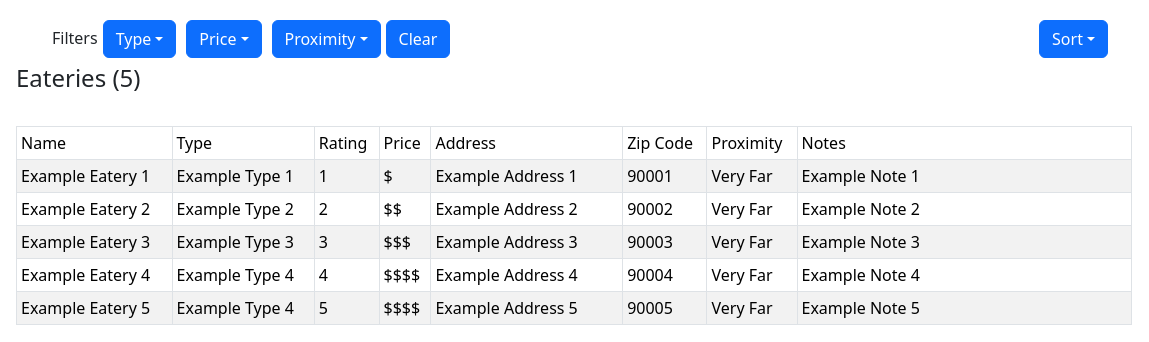
Test: Successfully renders eateries component › Test selecting type and price filter options and clear button
Click the button "Type" at (139, 39), box [103,20,176,58]
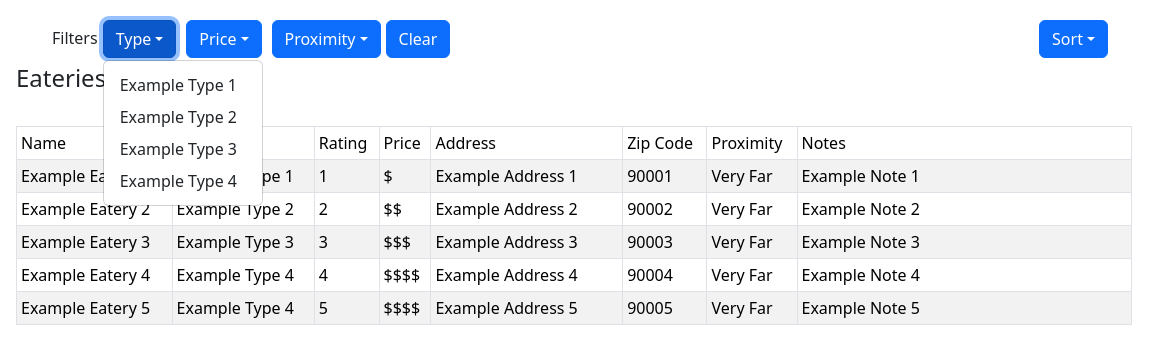
Click the button "example type 1" at (178, 85), box [120,74,237,96]
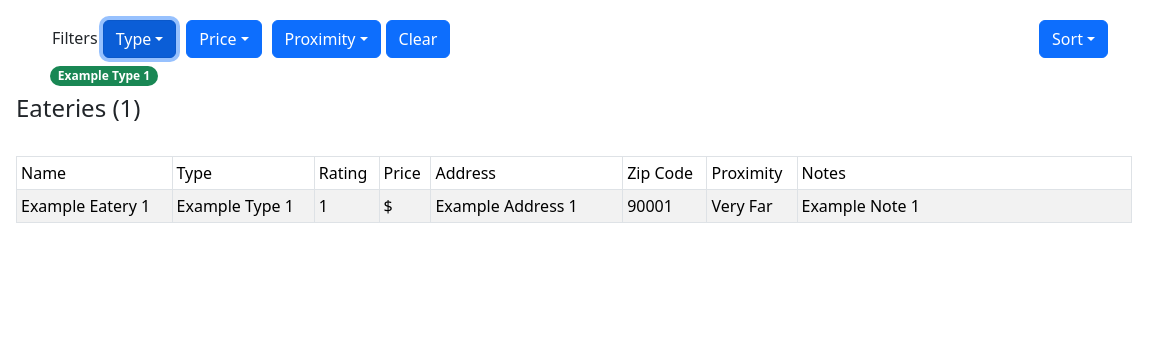
Result: the text "example type 1" is shown 3 times
Result: the button "example type 2" is gone
Click the button "Clear" at (418, 39), box [386,20,450,58]
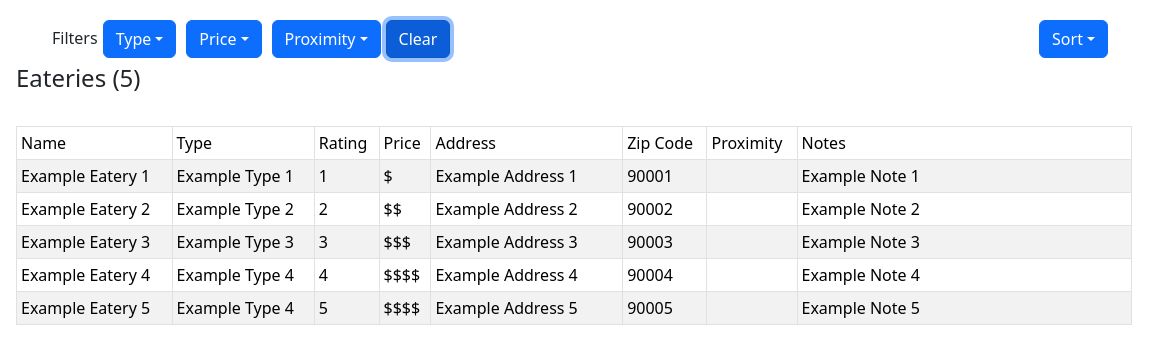
Click the button "Price" at (224, 39), box [186,20,262,58]
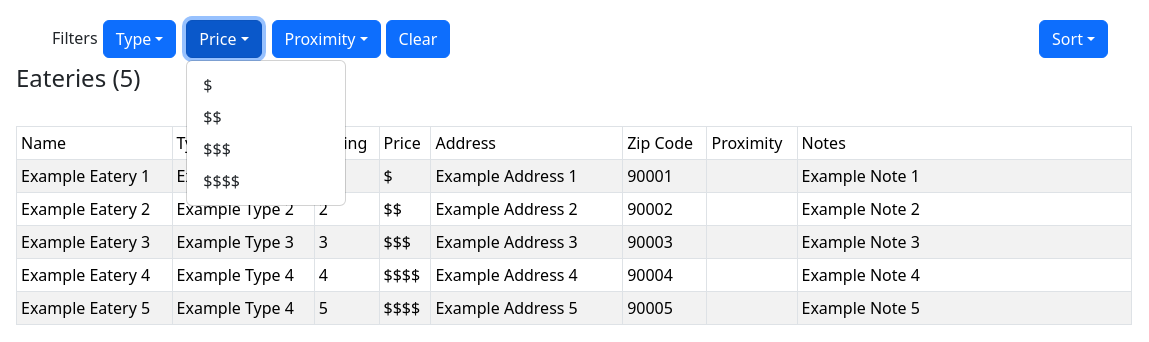
Click the button "$$" at (212, 117), box [203,106,222,128]
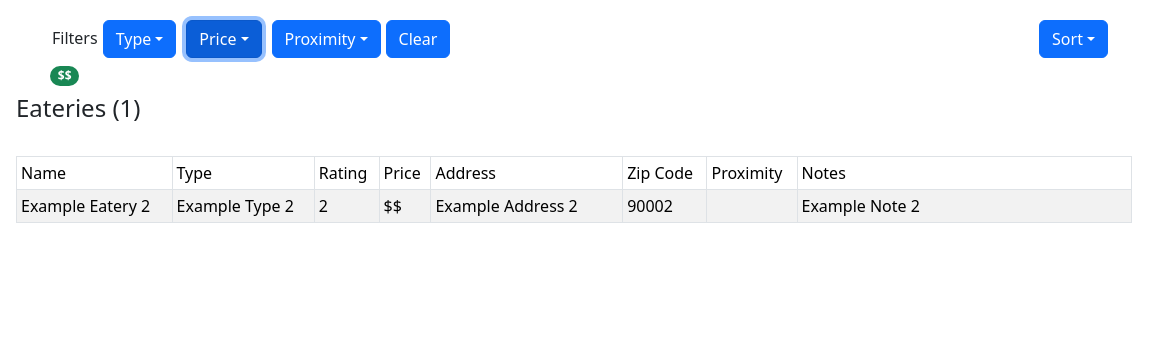
Result: the text "$$" is shown 3 times
